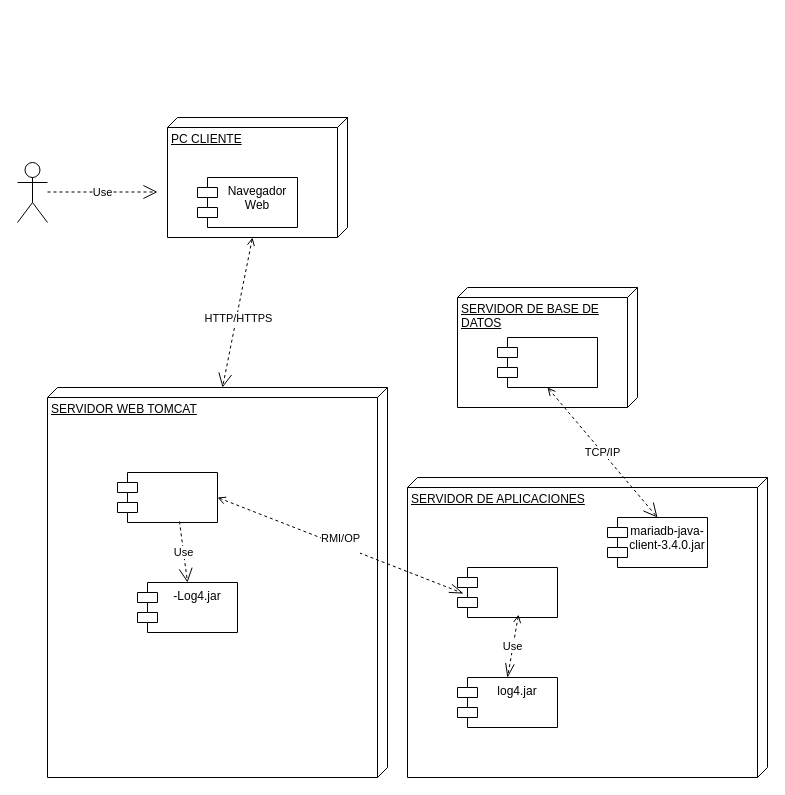
Some shapes in this 785 by 795 pixel diagram are drawn without their labels. Here are the shapes that lost their labels. From the top down, the centre of each, then its label:
At (32,192): "Actor".
At (547,362): "BASE DE DATOS VIDA SALUD".
At (167,497): "vidasalud.war".
At (507,592): "vidasalud.ear".
